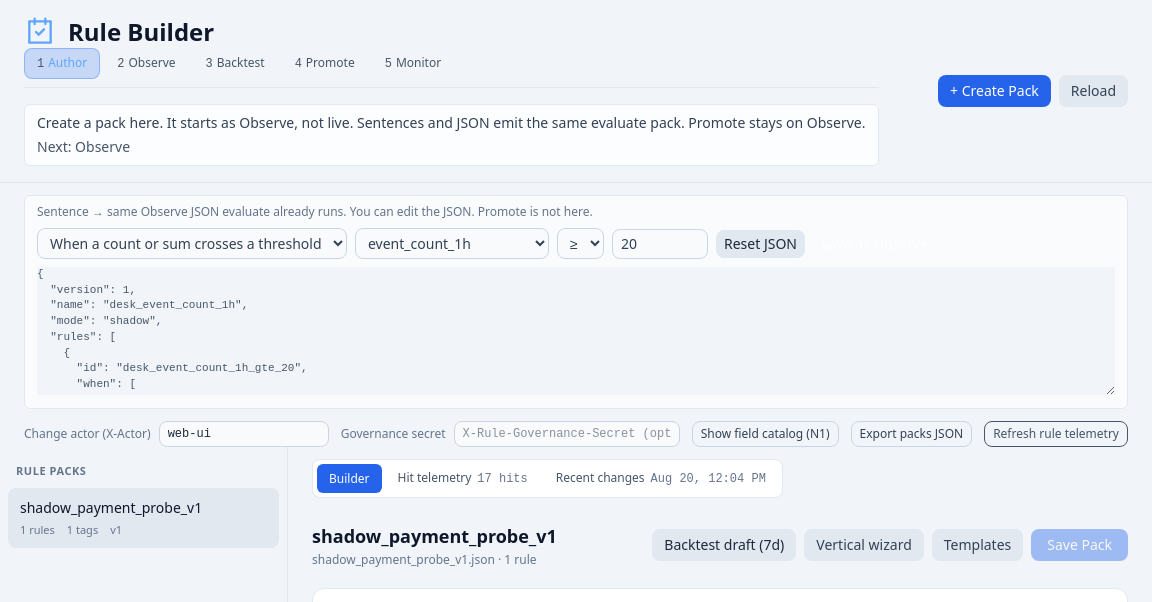
Rules workspace tabs › lists event_count_7d and avg_amount_1h from the author catalog picker
The width and height of the screenshot is (1152, 602).
expect the heading "shadow_payment_probe_v1" is shown: met, box top-left (312, 522), bottom-right (557, 550)
What coordinates should you click on to do the following:
click the button "Show field catalog (N1)"
I would click on:
 (765, 434)
Its box is top-left (692, 421), bottom-right (839, 447).
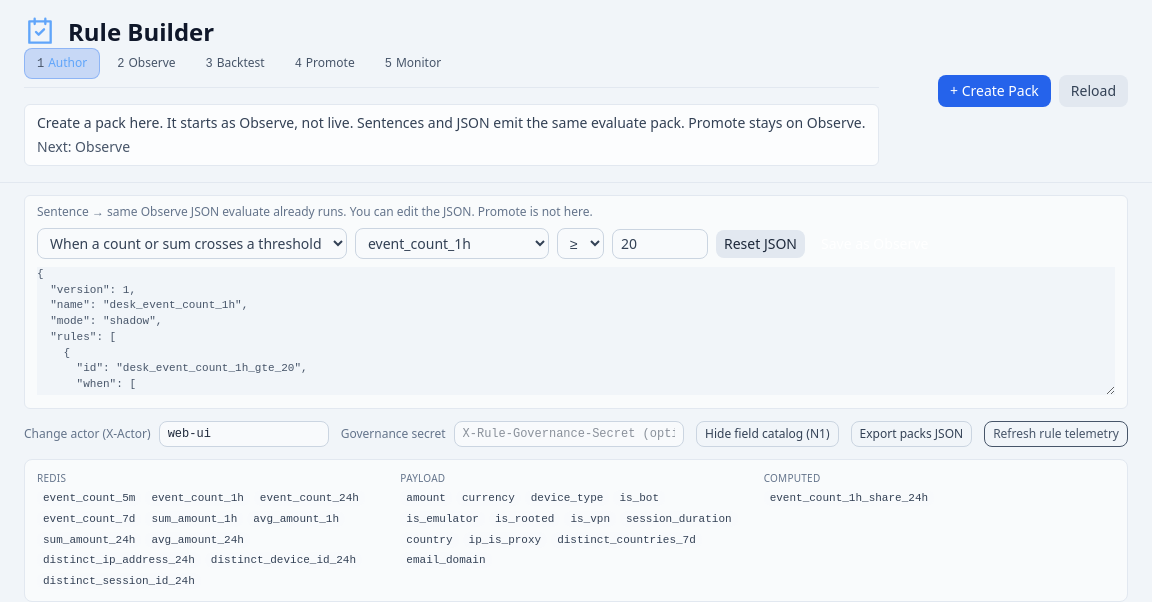
expect the text "event_count_7d" is shown: met, box top-left (37, 511), bottom-right (141, 527)
expect the text "avg_amount_1h" is shown: met, box top-left (247, 511), bottom-right (345, 527)
